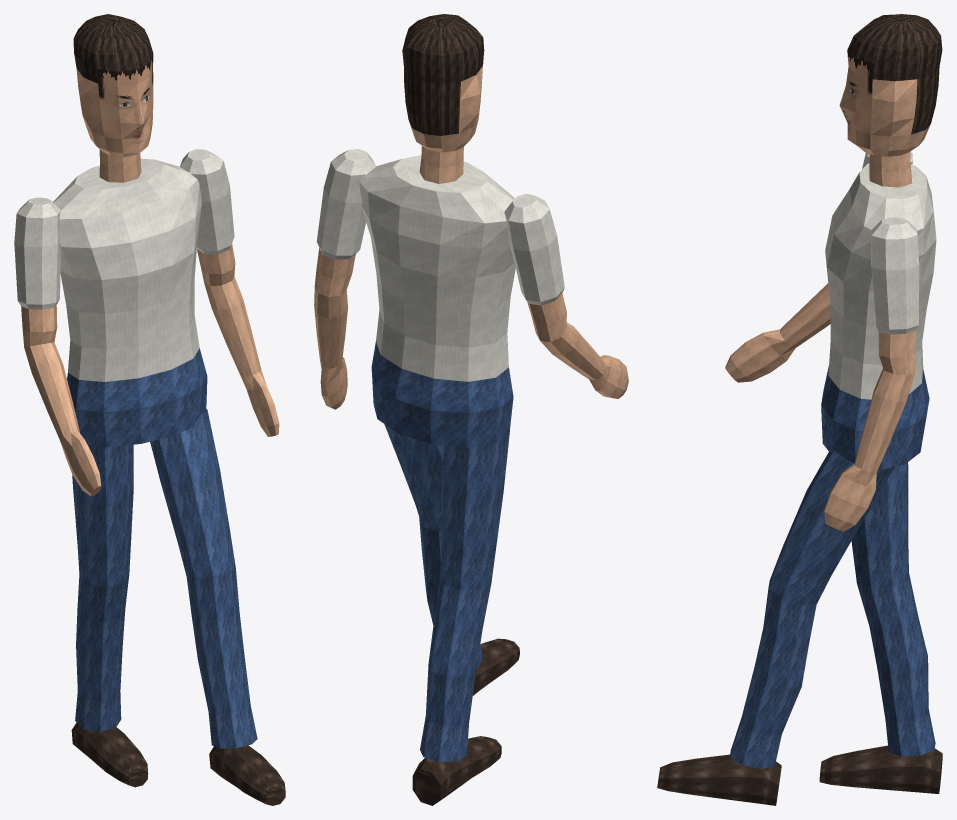
The model's file is walk_02.obj.
3 renders of one model, left to right at view 1: azimuth 30°, elevation 25°; view 2: azimuth 150°, elevation 25°; view 3: azimuth 270°, elevation 25°, orthographic. The views are drawn at different scales.
Size of the model in its own units: 0.6269 by 1.85 by 0.6176.
Materials: 25 (25 with a texture image).
